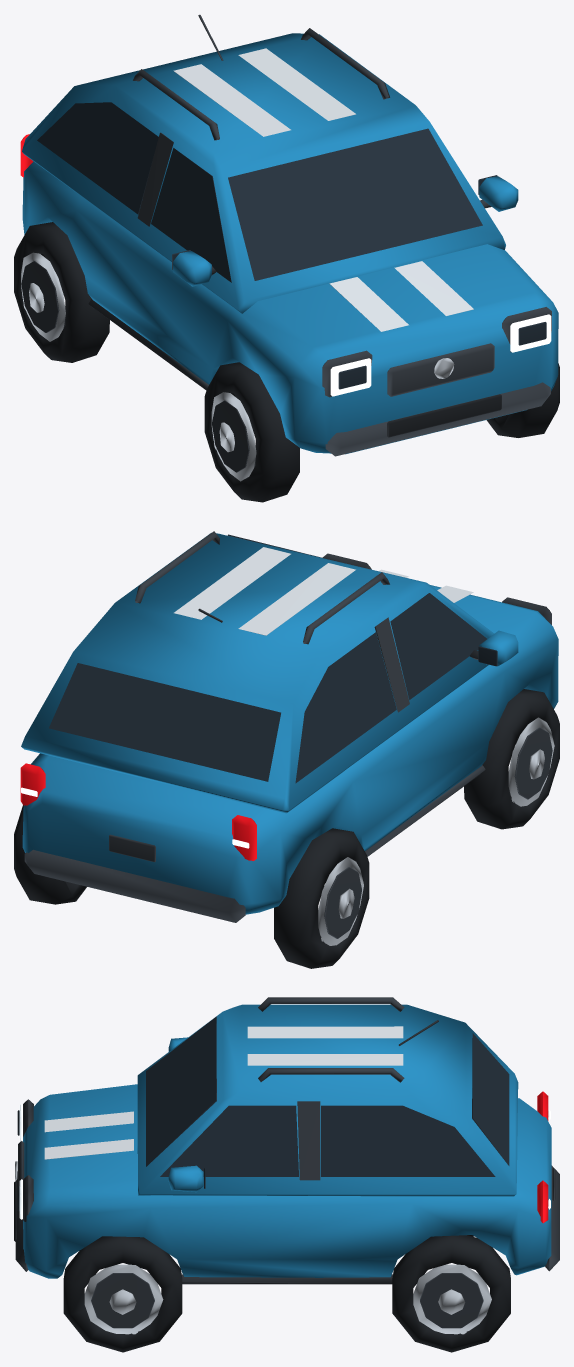
Rendered from NPC_CityHatch_LOD2.fbx.
3 renders of one model, top to bottom at view 1: azimuth 30°, elevation 25°; view 2: azimuth 150°, elevation 25°; view 3: azimuth 270°, elevation 25°, orthographic. The views are drawn at different scales.
Parts seen in each view (by area): view 1: NPC_CityHatch_LOD2; view 2: NPC_CityHatch_LOD2; view 3: NPC_CityHatch_LOD2.
Part boxes in pixels (box(x1,y1,x2,y2)): NPC_CityHatch_LOD2: box(14, 14, 559, 502); NPC_CityHatch_LOD2: box(14, 531, 559, 968); NPC_CityHatch_LOD2: box(14, 997, 559, 1352).
Bounding box in the file's own units: 226 × 206 × 372.
